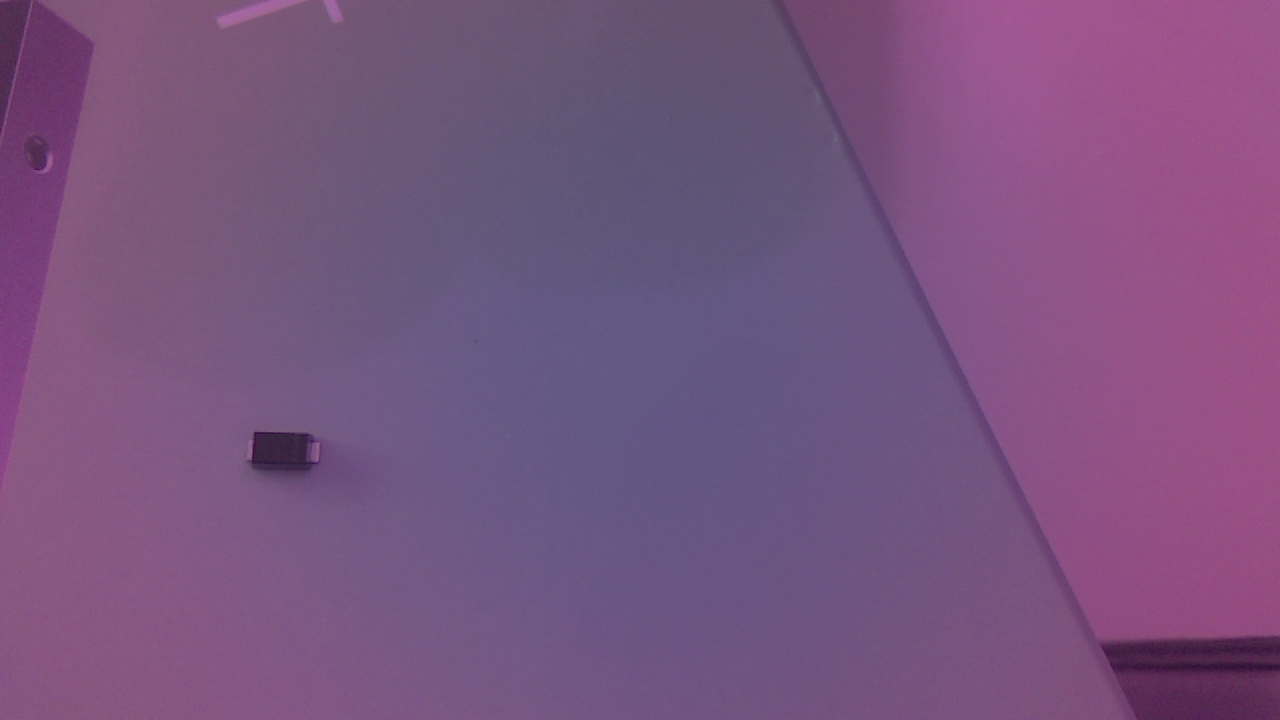Diode: (243, 426, 328, 484)
